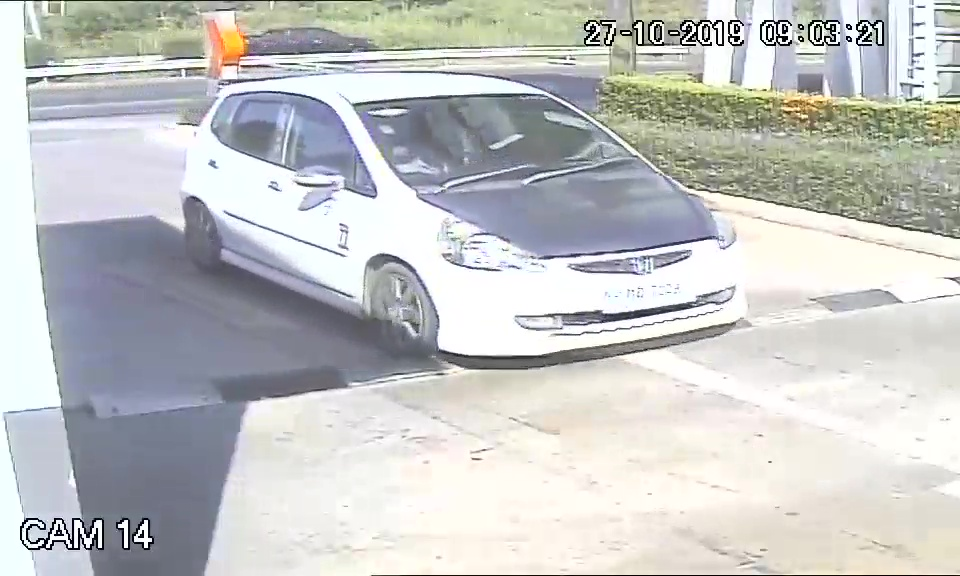sedan: (176, 71, 754, 360)
